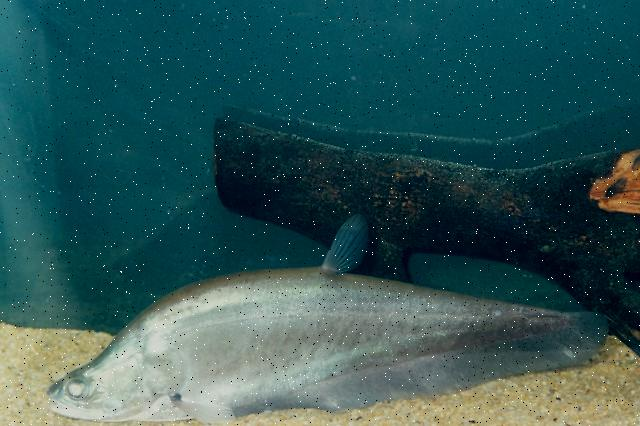Mulut: (27, 369, 104, 425)
Sirip Punggung: (315, 206, 379, 282)
